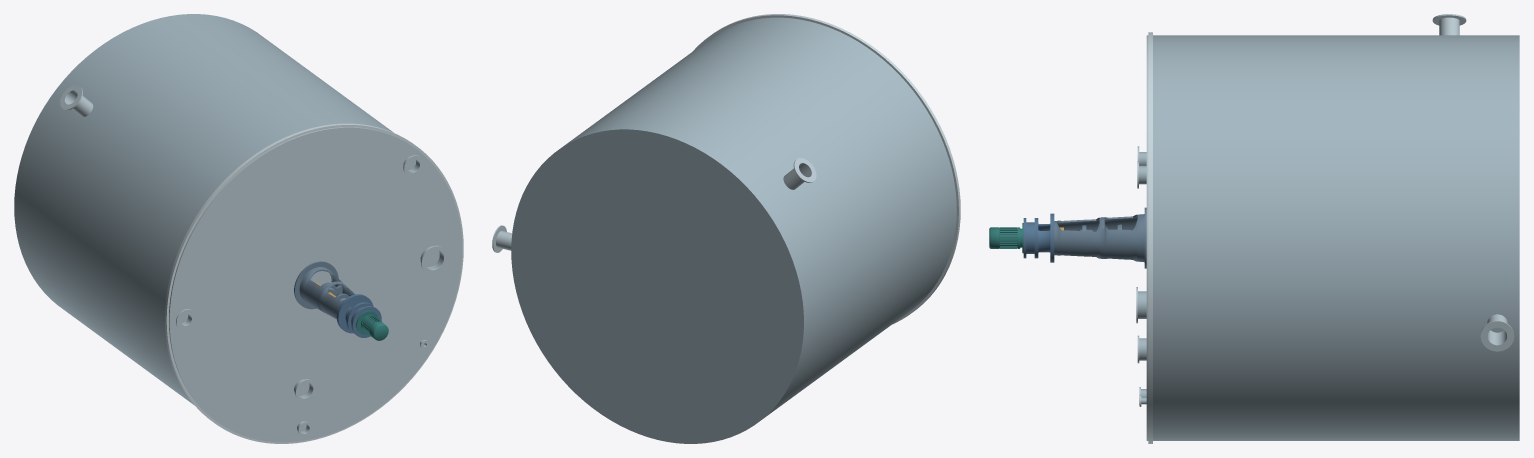
The picture shows the model from 3 angles, left to right: view 1: azimuth 30°, elevation 25°; view 2: azimuth 150°, elevation 25°; view 3: azimuth 270°, elevation 25°; orthographic projection. The views are drawn at different scales.
Visible parts, largest first — view 1: Tank_cover_lid, Tank_shell_OD5500_H5000, Lid_edge_rim, 06_Tapered_window_frame_with_bored_seats, 01_Motor, 06_Frame_foot, 02_Base_flange_top; view 2: Tank_shell_OD5500_H5000, Lid_edge_rim; view 3: Tank_shell_OD5500_H5000, 06_Tapered_window_frame_with_bored_seats, Lid_edge_rim, Tank_cover_lid, 01_Motor, 接口_东侧法兰.
Part boxes in pixels (<box>): Tank_cover_lid: <box>169,127,462,442</box>; Tank_shell_OD5500_H5000: <box>14,14,393,404</box>; Lid_edge_rim: <box>165,123,463,443</box>; 06_Tapered_window_frame_with_bored_seats: <box>299,267,354,319</box>; 01_Motor: <box>356,310,388,340</box>; 06_Frame_foot: <box>294,261,338,309</box>; 02_Base_flange_top: <box>337,294,373,333</box>; Tank_shell_OD5500_H5000: <box>511,17,956,443</box>; Lid_edge_rim: <box>693,14,960,323</box>; Tank_shell_OD5500_H5000: <box>1153,35,1519,440</box>; 06_Tapered_window_frame_with_bored_seats: <box>1054,214,1144,262</box>; Lid_edge_rim: <box>1148,32,1152,443</box>; Tank_cover_lid: <box>1146,35,1148,440</box>; 01_Motor: <box>989,223,1023,253</box>; 接口_东侧法兰: <box>1480,320,1514,351</box>.
Size of the model in its own units: 5.94 by 5.58 by 7.18.
